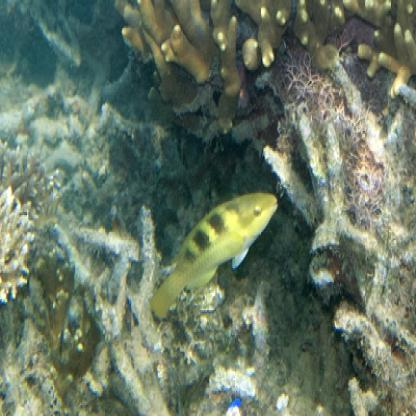Bio: (146, 184, 276, 326)
